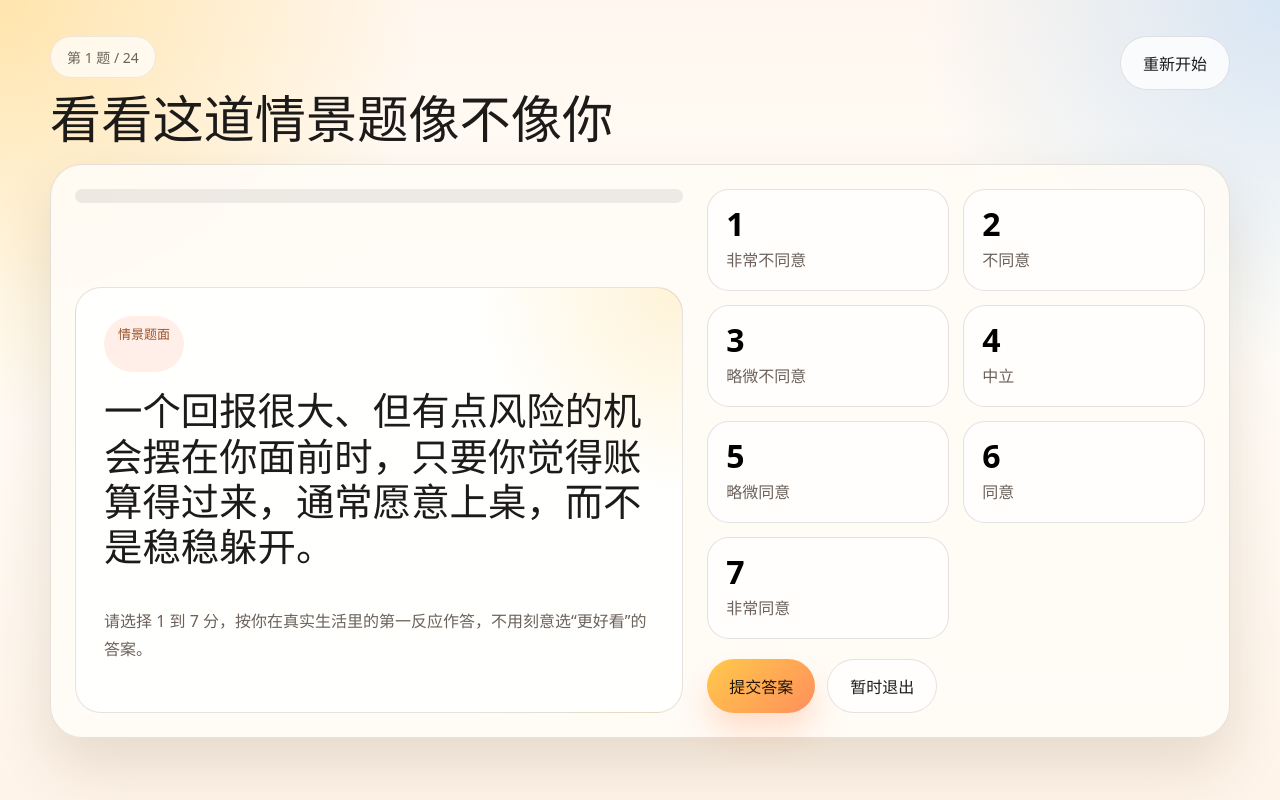
Test case: AssessmentShell › does not scroll on initial question load but scrolls to the next question after submit
The image size is (1280, 800).
Expected: the heading "一个回报很大、但有点风险的机会摆在你面前时，只要你觉得账算得过来，通常愿意上桌，而不是稳稳躲开。" is shown, [104, 388, 654, 591]
Click the button "6 同意": click(1084, 472) [963, 421, 1205, 523]
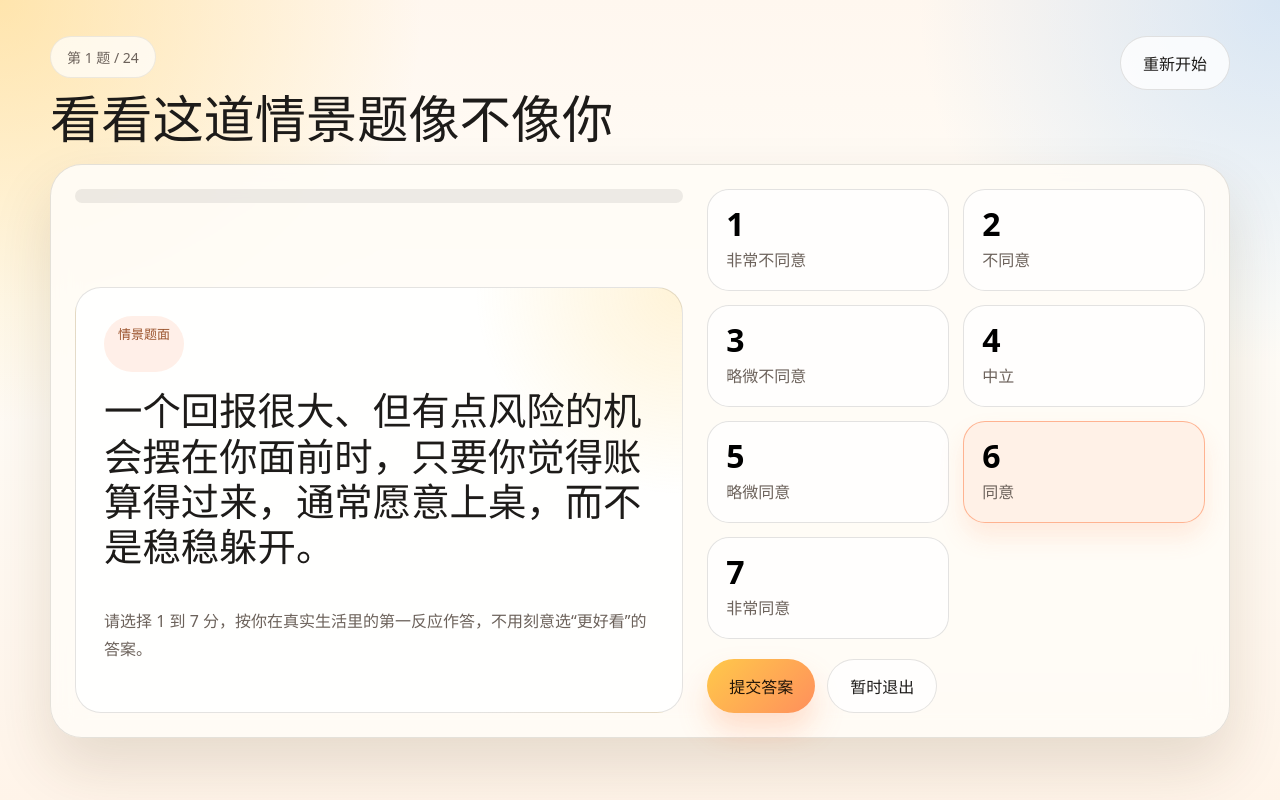
Click the button "提交答案": click(761, 686) [707, 659, 815, 713]
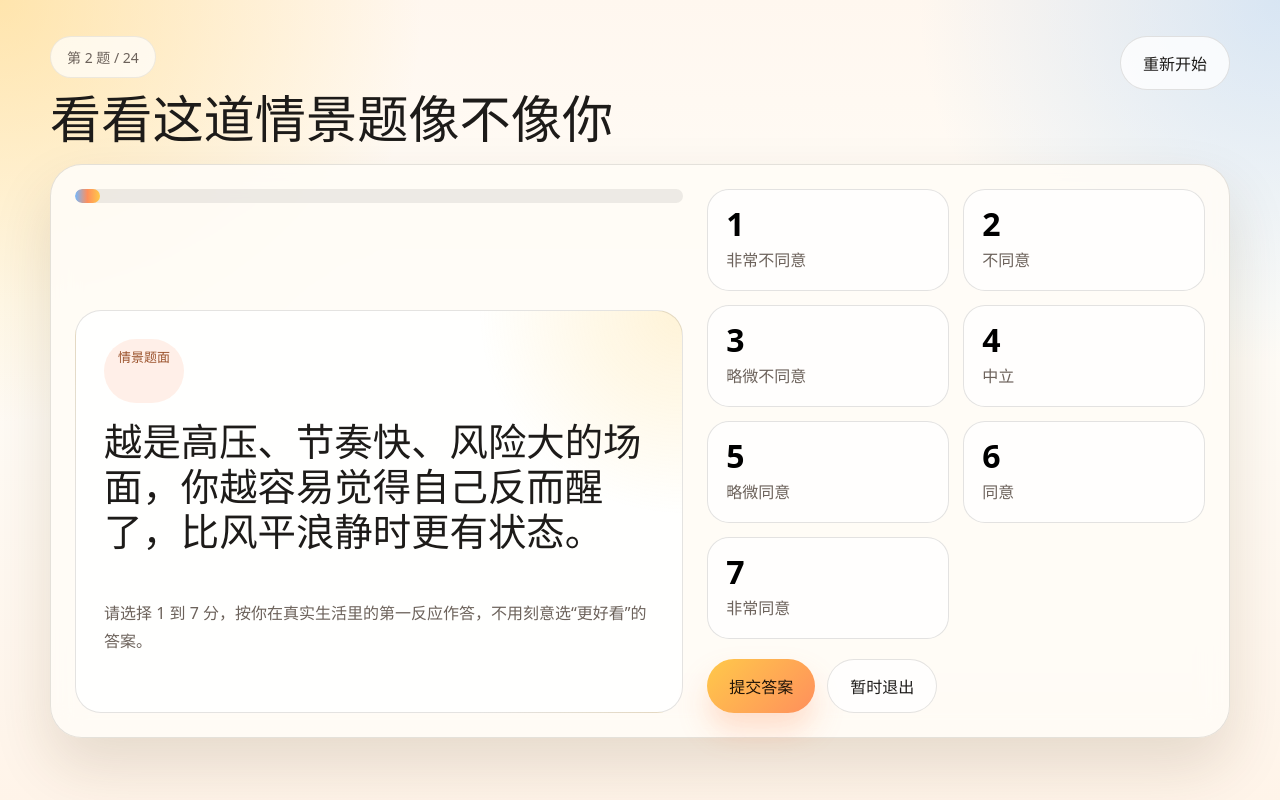
Expected: the heading "越是高压、节奏快、风险大的场面，你越容易觉得自己反而醒了，比风平浪静时更有状态。" is shown, [104, 419, 654, 583]
